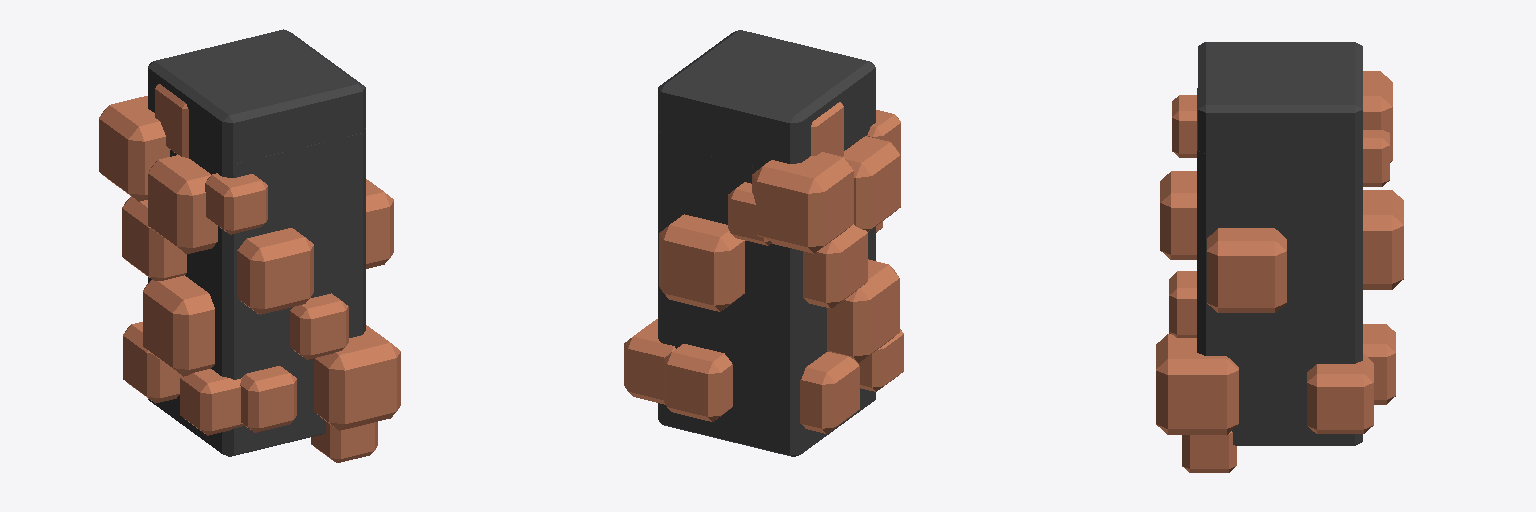
Rendered from ore1.obj.
3 renders of one model, left to right at view 1: azimuth 30°, elevation 25°; view 2: azimuth 150°, elevation 25°; view 3: azimuth 270°, elevation 25°, orthographic.
Parts seen in each view (by area): view 1: Cube_Cube.008, Ore1_Cube.007; view 2: Ore1_Cube.007, Cube_Cube.008; view 3: Ore1_Cube.007, Cube_Cube.008.
Part boxes in pixels (x1,y1,x2,y2): Cube_Cube.008: (99, 84, 400, 462); Ore1_Cube.007: (148, 29, 365, 456); Ore1_Cube.007: (658, 30, 875, 456); Cube_Cube.008: (624, 102, 903, 433); Ore1_Cube.007: (1197, 42, 1362, 445); Cube_Cube.008: (1156, 71, 1403, 472).
Bounding box in the file's own units: 3 × 4.88 × 3.